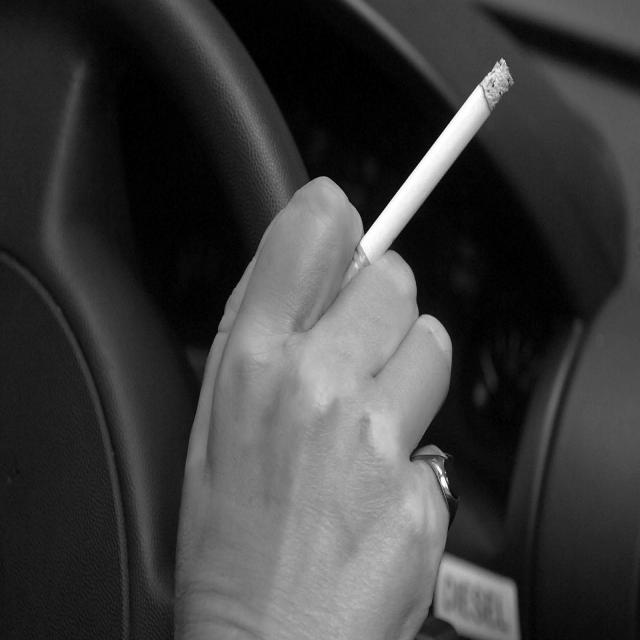Cigarette: (338, 58, 518, 265)
